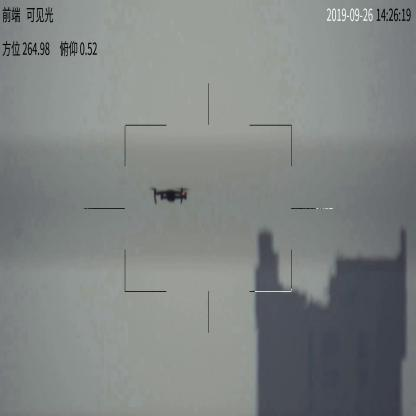uav: (152, 184, 200, 206)
